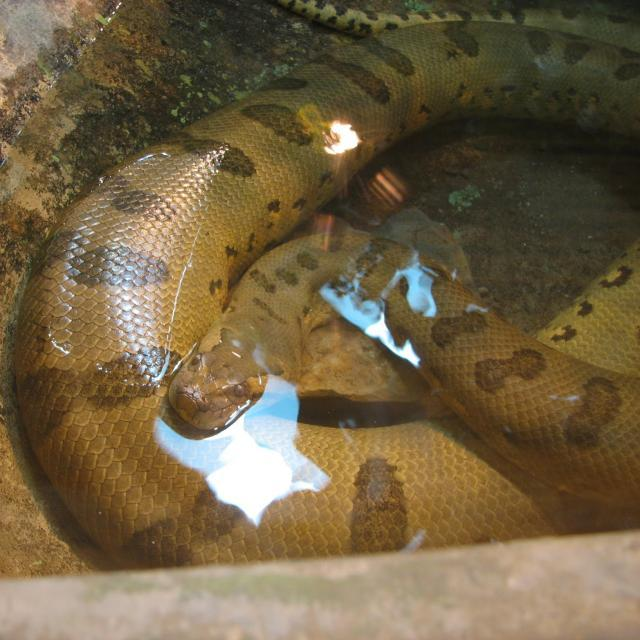Snake: (6, 0, 631, 640)
